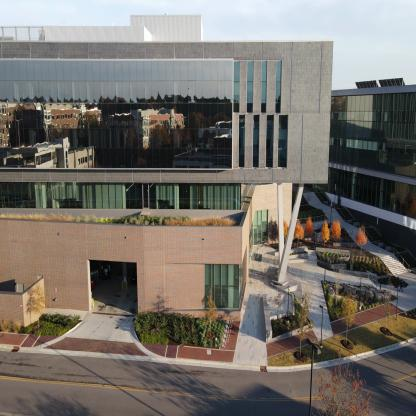Fitts- Woolard: (0, 10, 330, 318)
Hunt Library: (334, 75, 415, 291)
